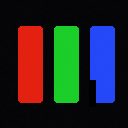4 line_v: (89, 80, 95, 106)
